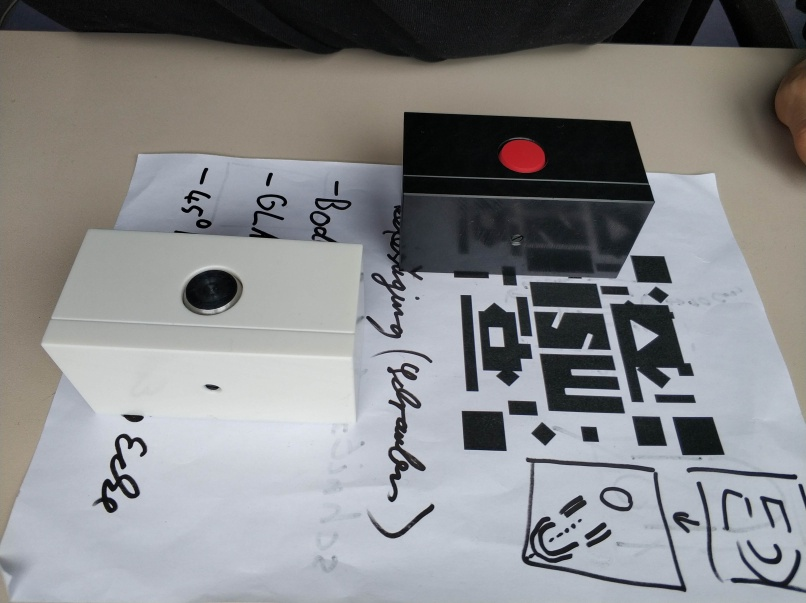black+black+red: (392, 108, 658, 280)
white+white+silver: (40, 225, 364, 426)
